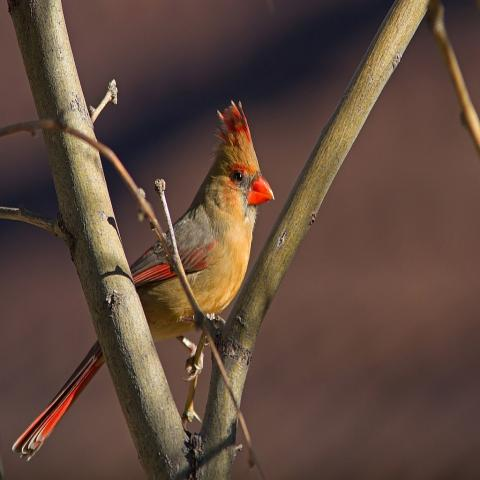bird: (10, 97, 276, 462)
